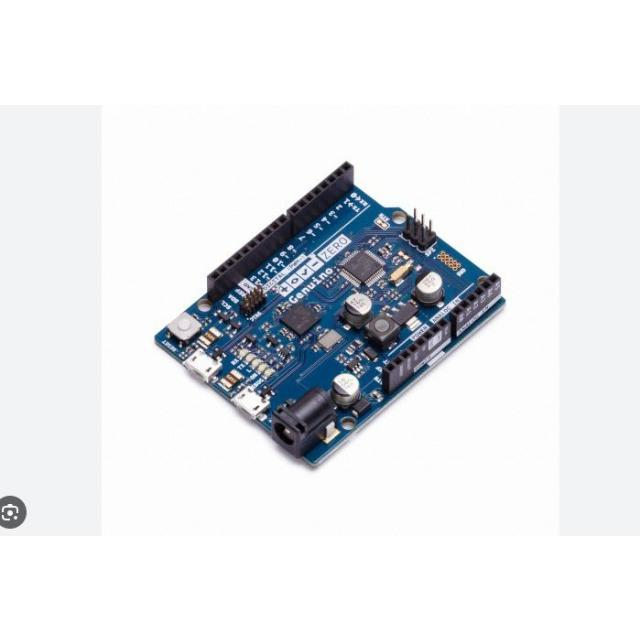Arduino-Zero: (155, 162, 506, 467)
